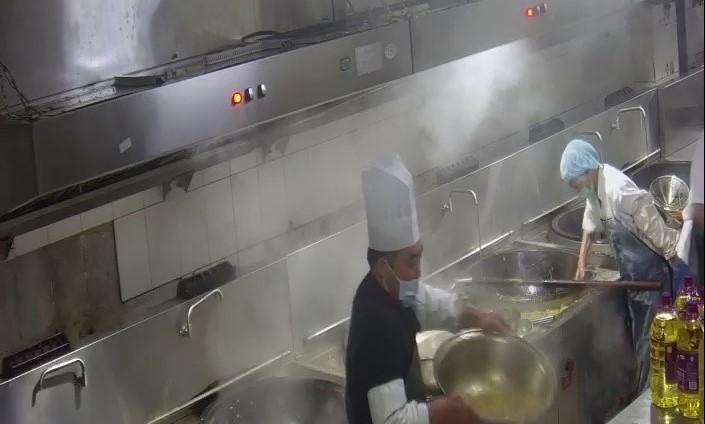mask: (388, 259, 424, 308)
